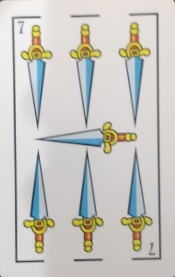7e: (10, 11, 160, 35)
